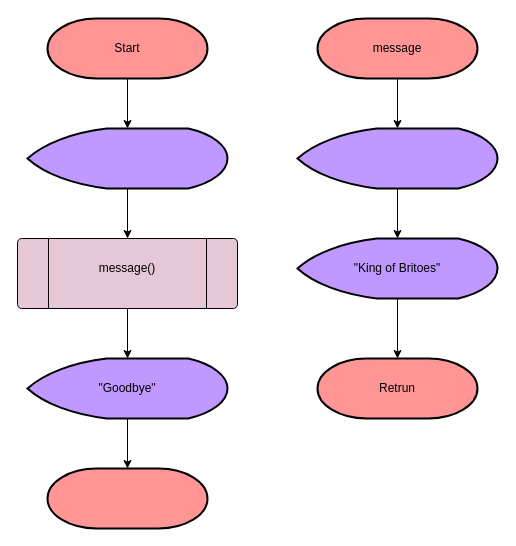
Image size: 516x546. Some labels were removed from this diagram. Each missing label, with the centre of its shape:
"I am Arther": [397,158]
I have a message for you: [127,158]
Stop: [127,498]
